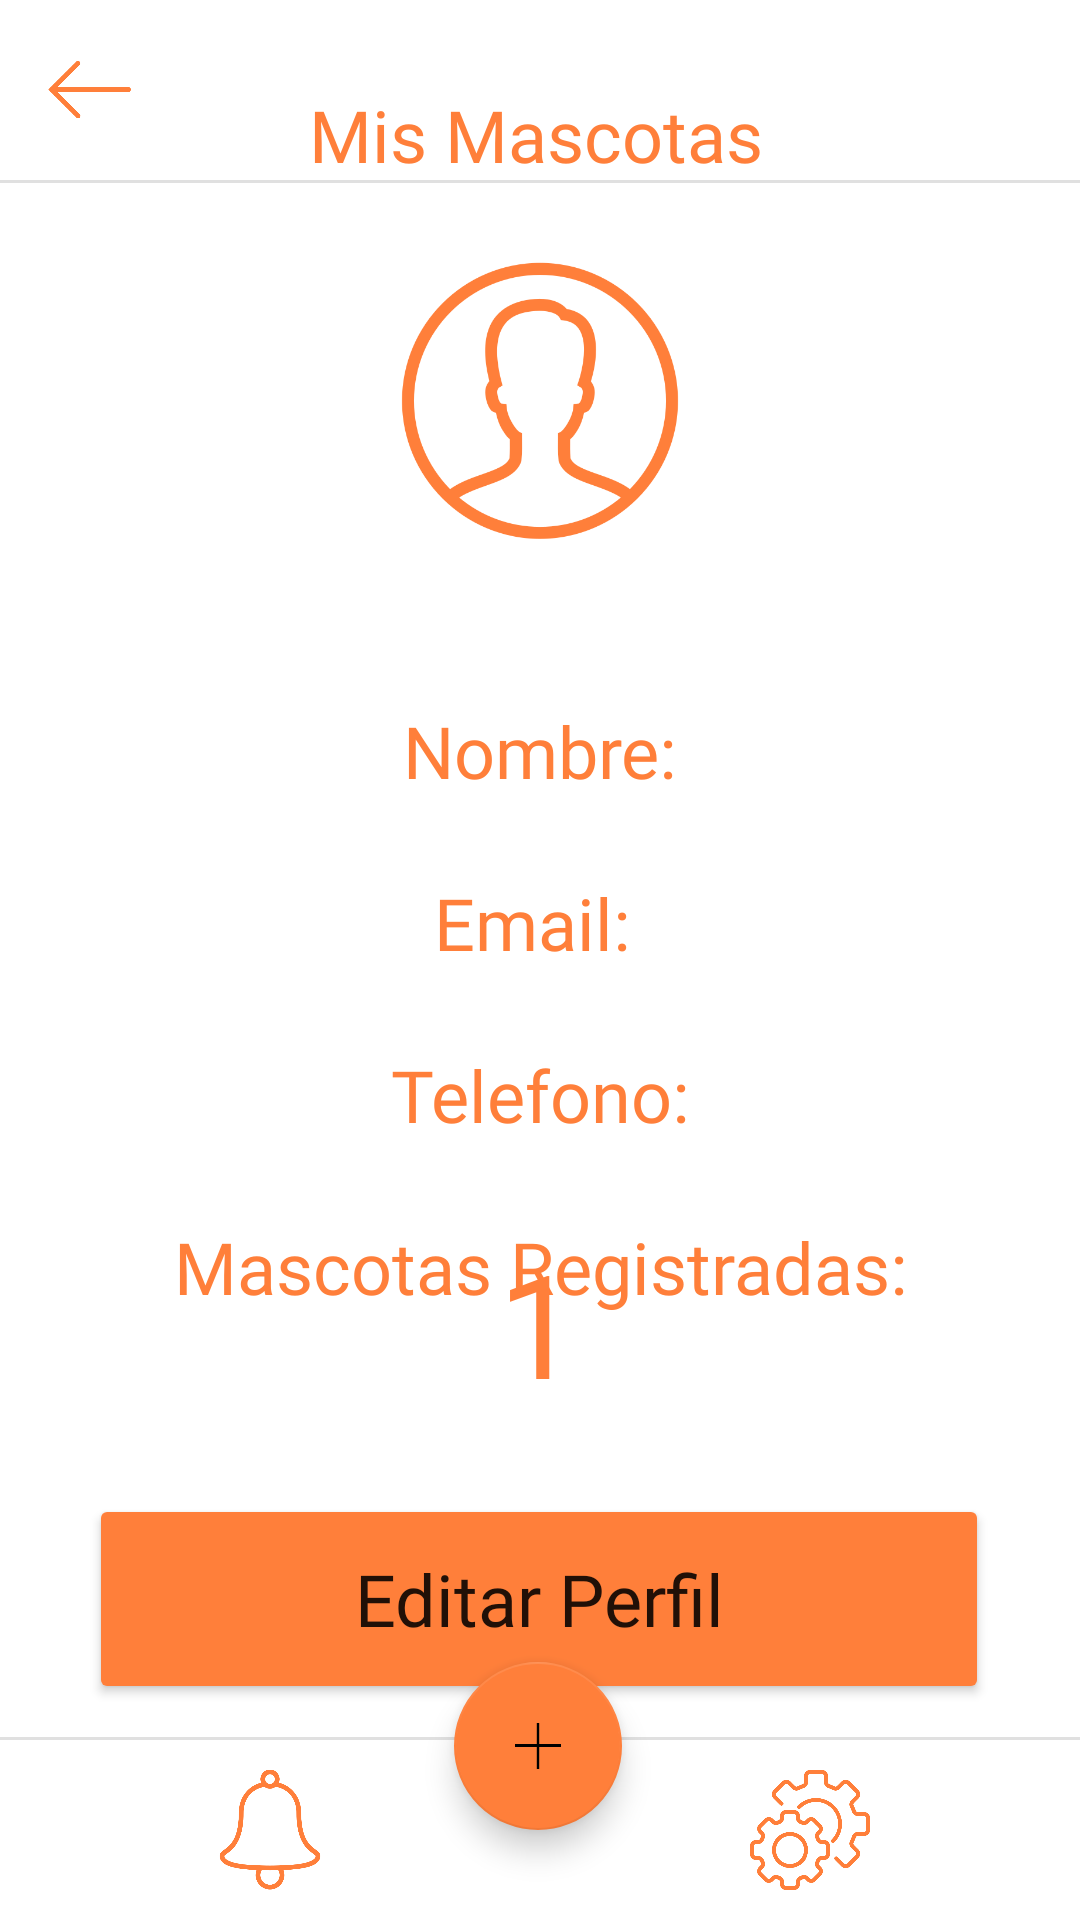

Icon click points for this 1080 × 1920 phone screenshot, format point (x, y):
Agregar: point (538, 1746)
boton notificaciones: point (270, 1830)
user male circle: point (540, 400)
